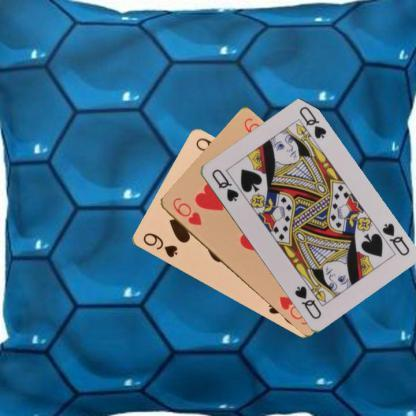6h: (169, 194, 203, 228)
9s: (140, 230, 178, 259)
Qs: (379, 220, 411, 257), (208, 166, 240, 202)
